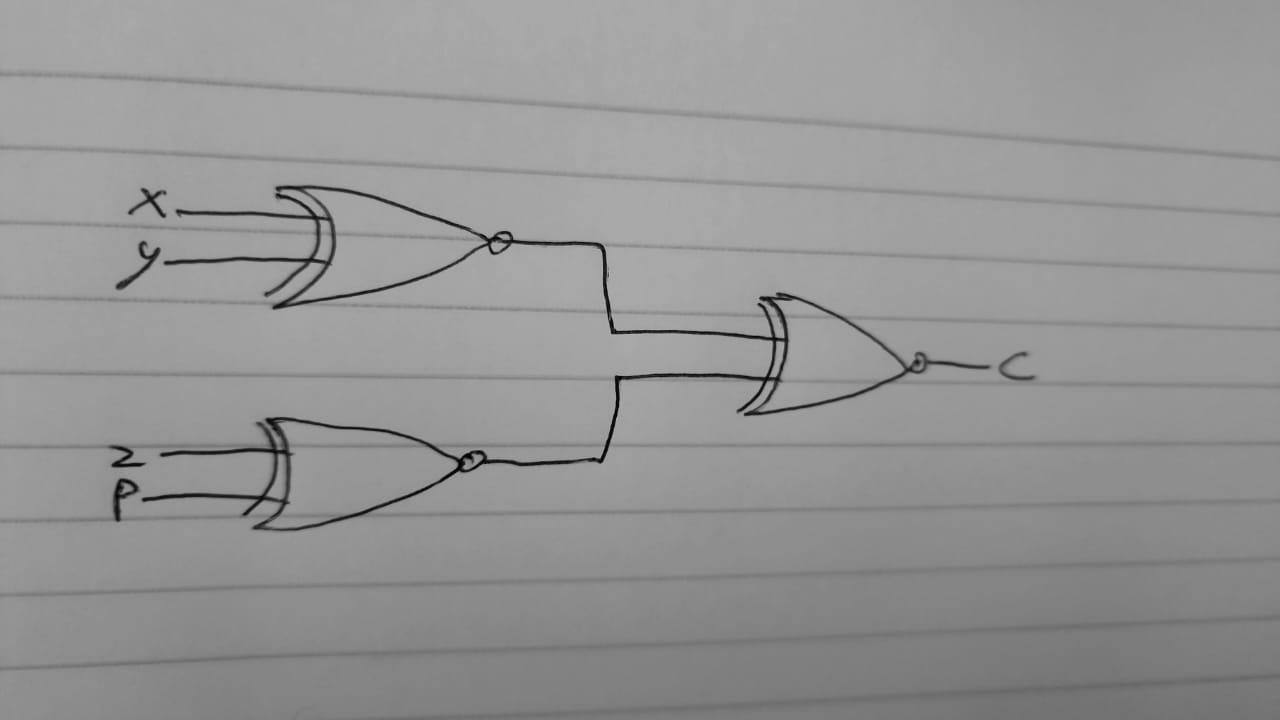XNOR: (247, 376, 519, 558), (256, 154, 533, 330), (739, 271, 959, 443)
